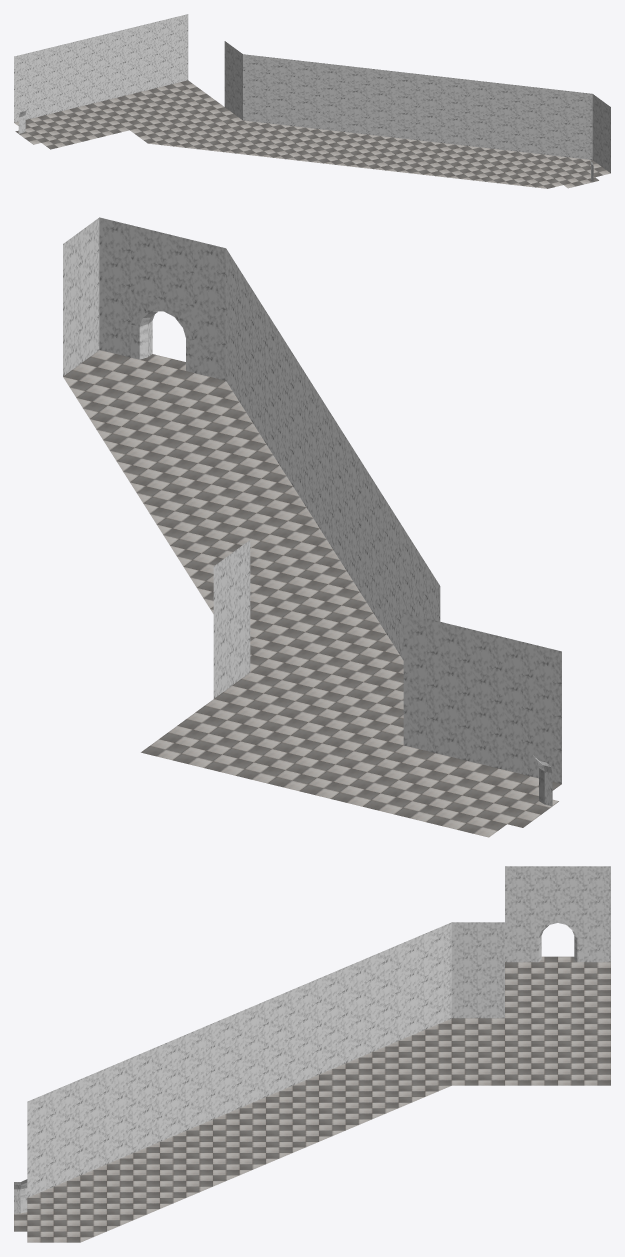
The model's file is Hallway8.glb.
The picture shows the model from 3 angles, top to bottom: view 1: azimuth 30°, elevation 25°; view 2: azimuth 150°, elevation 25°; view 3: azimuth 270°, elevation 25°; orthographic projection. The views are drawn at different scales.
Parts seen in each view (by area): view 1: Walls.007, Floor.006; view 2: Floor.006, Walls.007; view 3: Walls.007, Floor.006.
Part boxes in pixels (<box>): Walls.007: <box>14,14,610,181</box>; Floor.006: <box>14,80,610,188</box>; Floor.006: <box>63,350,561,837</box>; Walls.007: <box>63,217,561,806</box>; Walls.007: <box>14,866,610,1213</box>; Floor.006: <box>14,956,610,1242</box>.
Bounding box in the file's own units: 25.5 × 4 × 22.5.
3 materials, 3 textured.
